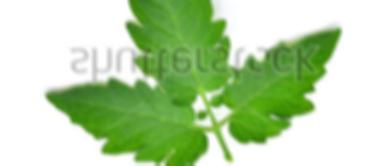Tomato leaf: (220, 14, 364, 166), (39, 64, 217, 166), (118, 0, 244, 118)
